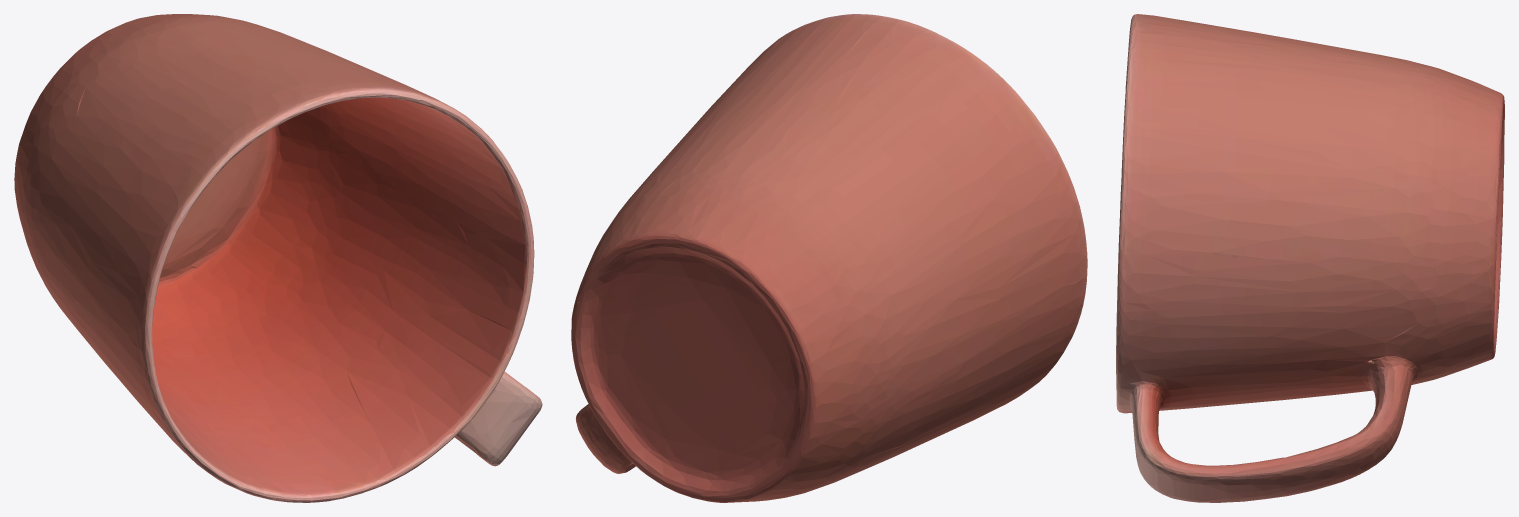
Rendered from mug7.glb.
3 views of the same model, side by side, from view 1: azimuth 30°, elevation 25°; view 2: azimuth 150°, elevation 25°; view 3: azimuth 270°, elevation 25° (orthographic). The views are drawn at different scales.
Parts seen in each view (by area): view 1: geometry_0; view 2: geometry_0; view 3: geometry_0.
Boxes of the visible parts, <box> form: geometry_0: <box>14,14,542,502</box>; geometry_0: <box>571,14,1087,502</box>; geometry_0: <box>1116,14,1504,502</box>.
Bounding box in the file's own units: 0.0873 × 0.0862 × 0.078.
1 material, 1 textured.
